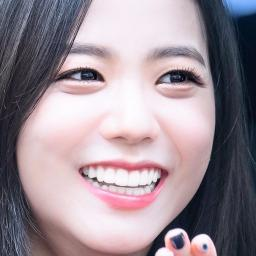face: (17, 0, 209, 248)
